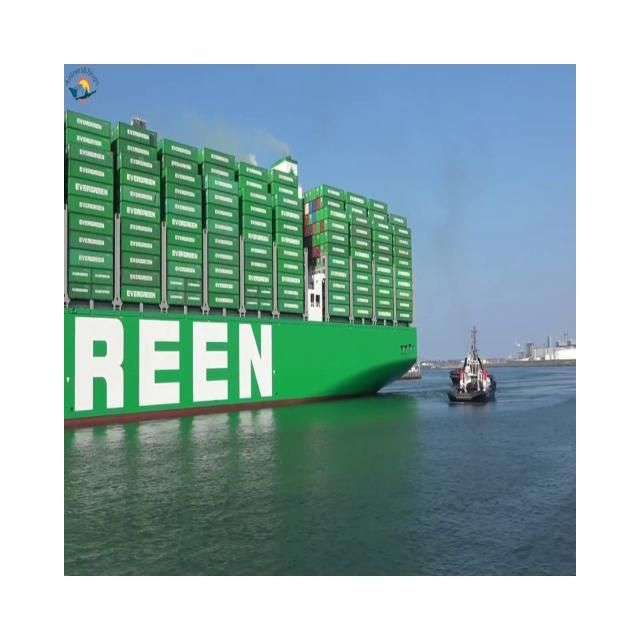OCR: (68, 310, 284, 431)
